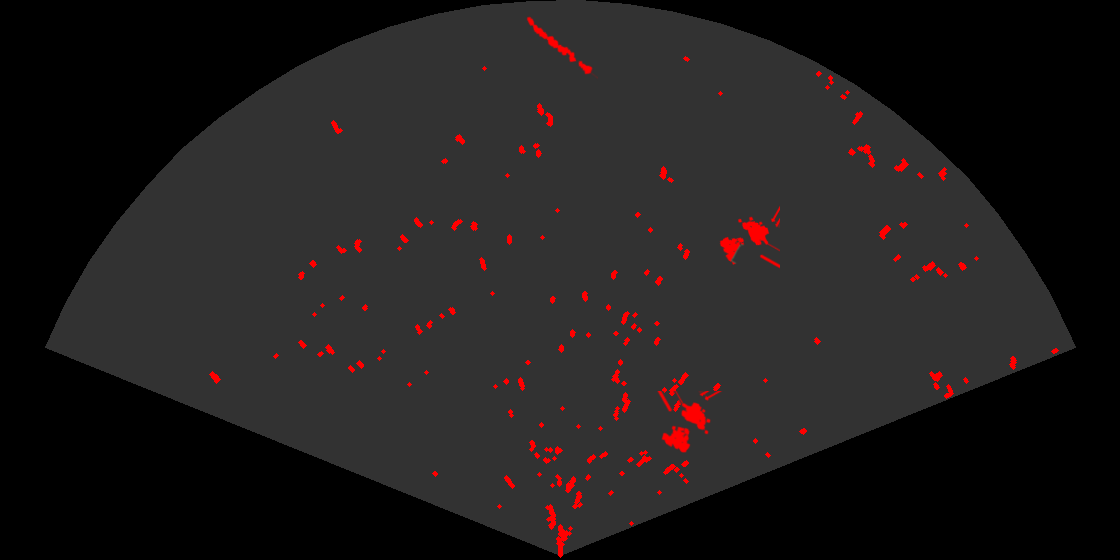cage: (656, 391, 724, 454), (718, 204, 780, 270)
chain: (525, 15, 598, 81)
